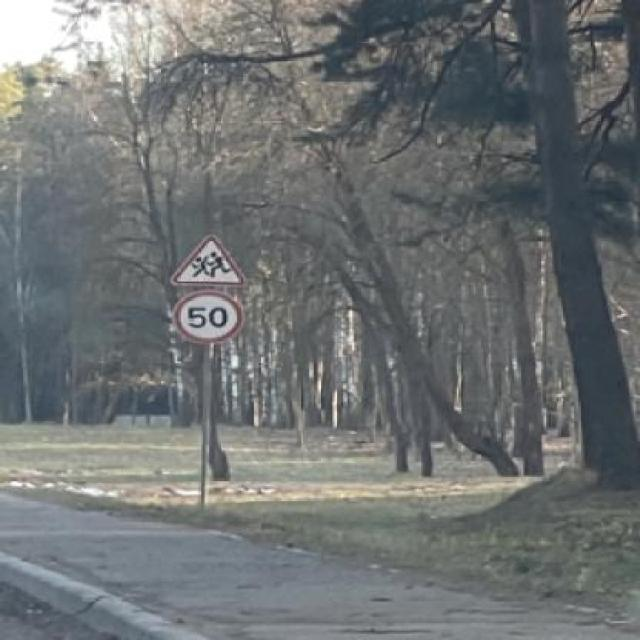forb_speed_over_50: (174, 288, 241, 344)
